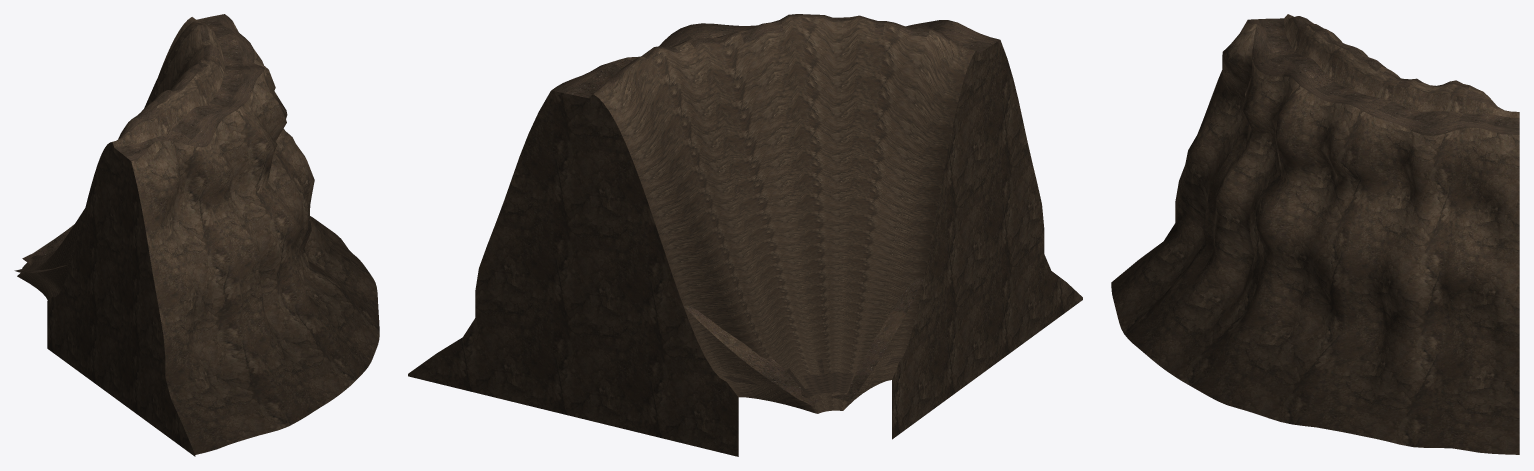
File: seacliff_outer_h5_v5_dead.glb
3 views of the same model, side by side, from view 1: azimuth 30°, elevation 25°; view 2: azimuth 150°, elevation 25°; view 3: azimuth 270°, elevation 25° (orthographic). The views are drawn at different scales.
Parts seen in each view (by area): view 1: seacliff_outer_h5; view 2: seacliff_outer_h5; view 3: seacliff_outer_h5.
Part boxes in pixels (left/top/right/bottom): seacliff_outer_h5: left=14, top=14, right=379, bottom=456; seacliff_outer_h5: left=408, top=14, right=1082, bottom=456; seacliff_outer_h5: left=1111, top=14, right=1519, bottom=454.
Size of the model in its own units: 9.01 by 7.21 by 9.01.
2 materials, 2 textured.
